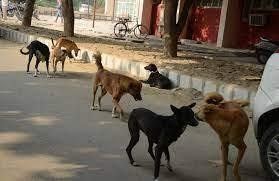dog_aggressive: (127, 102, 198, 180), (195, 96, 256, 181), (90, 49, 142, 114)
normal_dogs: (18, 38, 52, 83), (139, 57, 176, 94), (47, 40, 70, 80), (54, 36, 82, 60)
